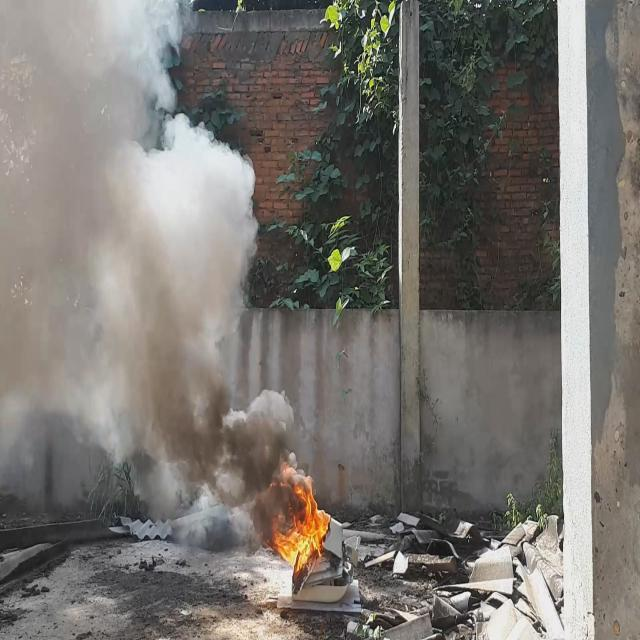Fire: (262, 470, 332, 574)
Smoke: (0, 0, 306, 556)
